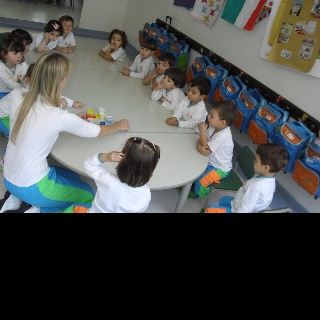without_mask: (6, 47, 22, 64), (207, 108, 220, 126), (253, 151, 264, 172), (159, 73, 174, 88), (187, 84, 201, 100), (156, 57, 168, 73), (110, 33, 123, 47), (139, 44, 151, 57), (60, 73, 68, 91), (61, 20, 71, 33), (23, 40, 31, 54), (49, 31, 59, 41)
